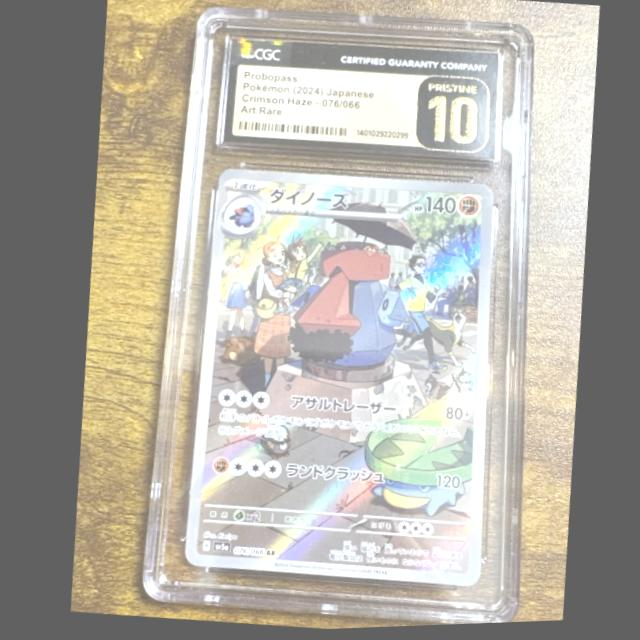card: (178, 169, 491, 590)
cgc_label: (219, 38, 498, 164)
cgc_slab: (134, 6, 534, 627)
